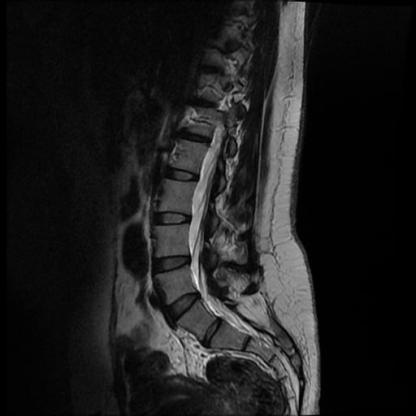Annular Disc Relaxationrotation: (167, 295, 202, 315), (197, 323, 230, 340)
Degenerative Disc Diseaserotation: (167, 295, 202, 315), (196, 324, 230, 341), (170, 169, 200, 184)
Disc Bulgerotation: (170, 169, 200, 184)
